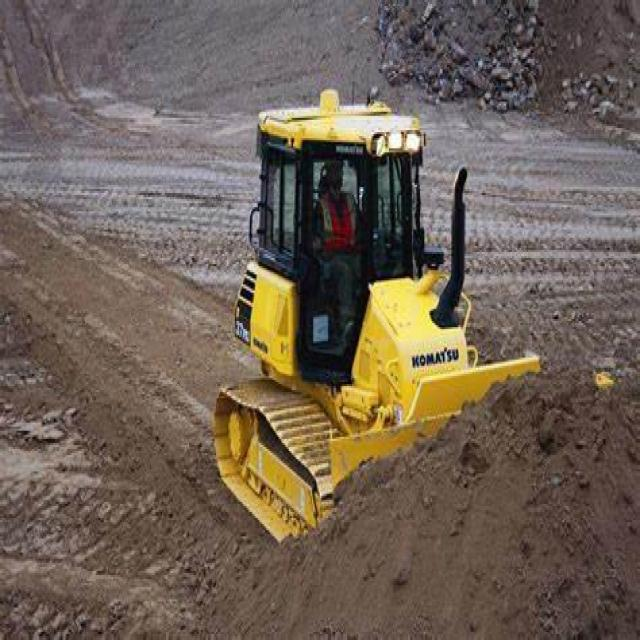Bulldozer: (177, 83, 593, 551)
